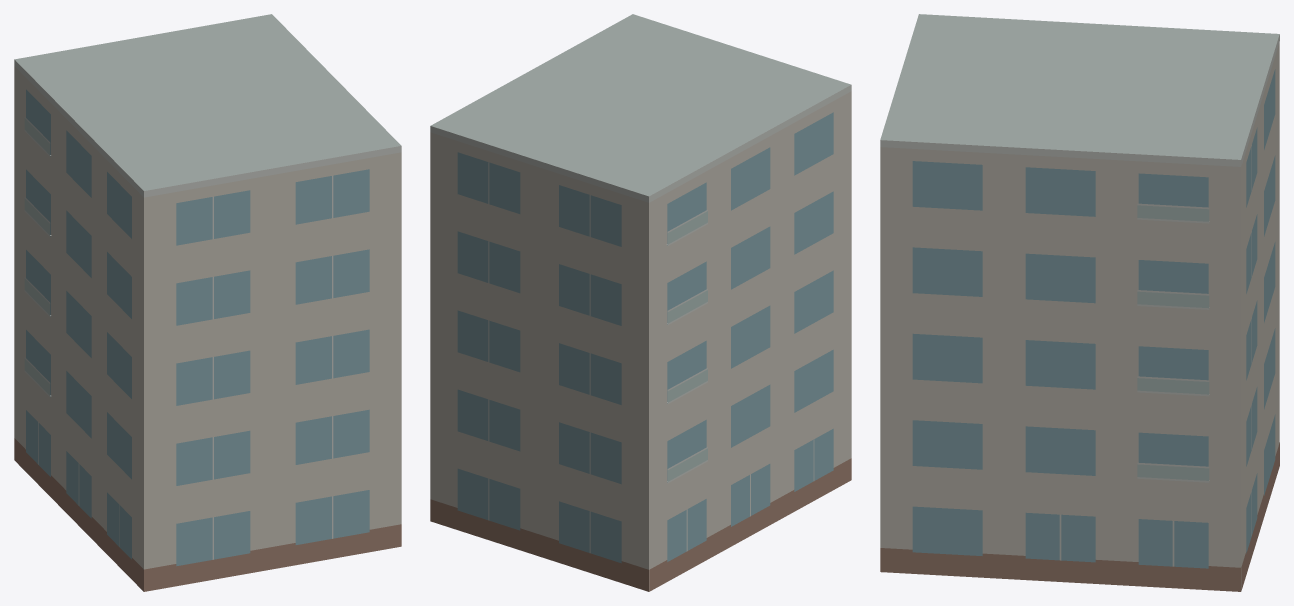
Rendered from survey-upis-32556406.glb.
3 views of the same model, side by side, from view 1: azimuth 30°, elevation 25°; view 2: azimuth 150°, elevation 25°; view 3: azimuth 270°, elevation 25° (orthographic). The views are drawn at different scales.
Visible parts, largest first — view 1: survey-upis-32556406.tmp; view 2: survey-upis-32556406.tmp; view 3: survey-upis-32556406.tmp.
Boxes of the visible parts, x1,y1,x2,y2 form: survey-upis-32556406.tmp: (14,14,401,591); survey-upis-32556406.tmp: (430,14,851,591); survey-upis-32556406.tmp: (880,14,1279,591).
Bounding box in the file's own units: 10.92 × 15.05 × 12.63.
